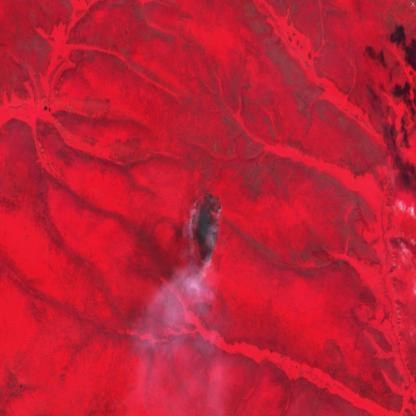fire: (187, 188, 224, 268)
